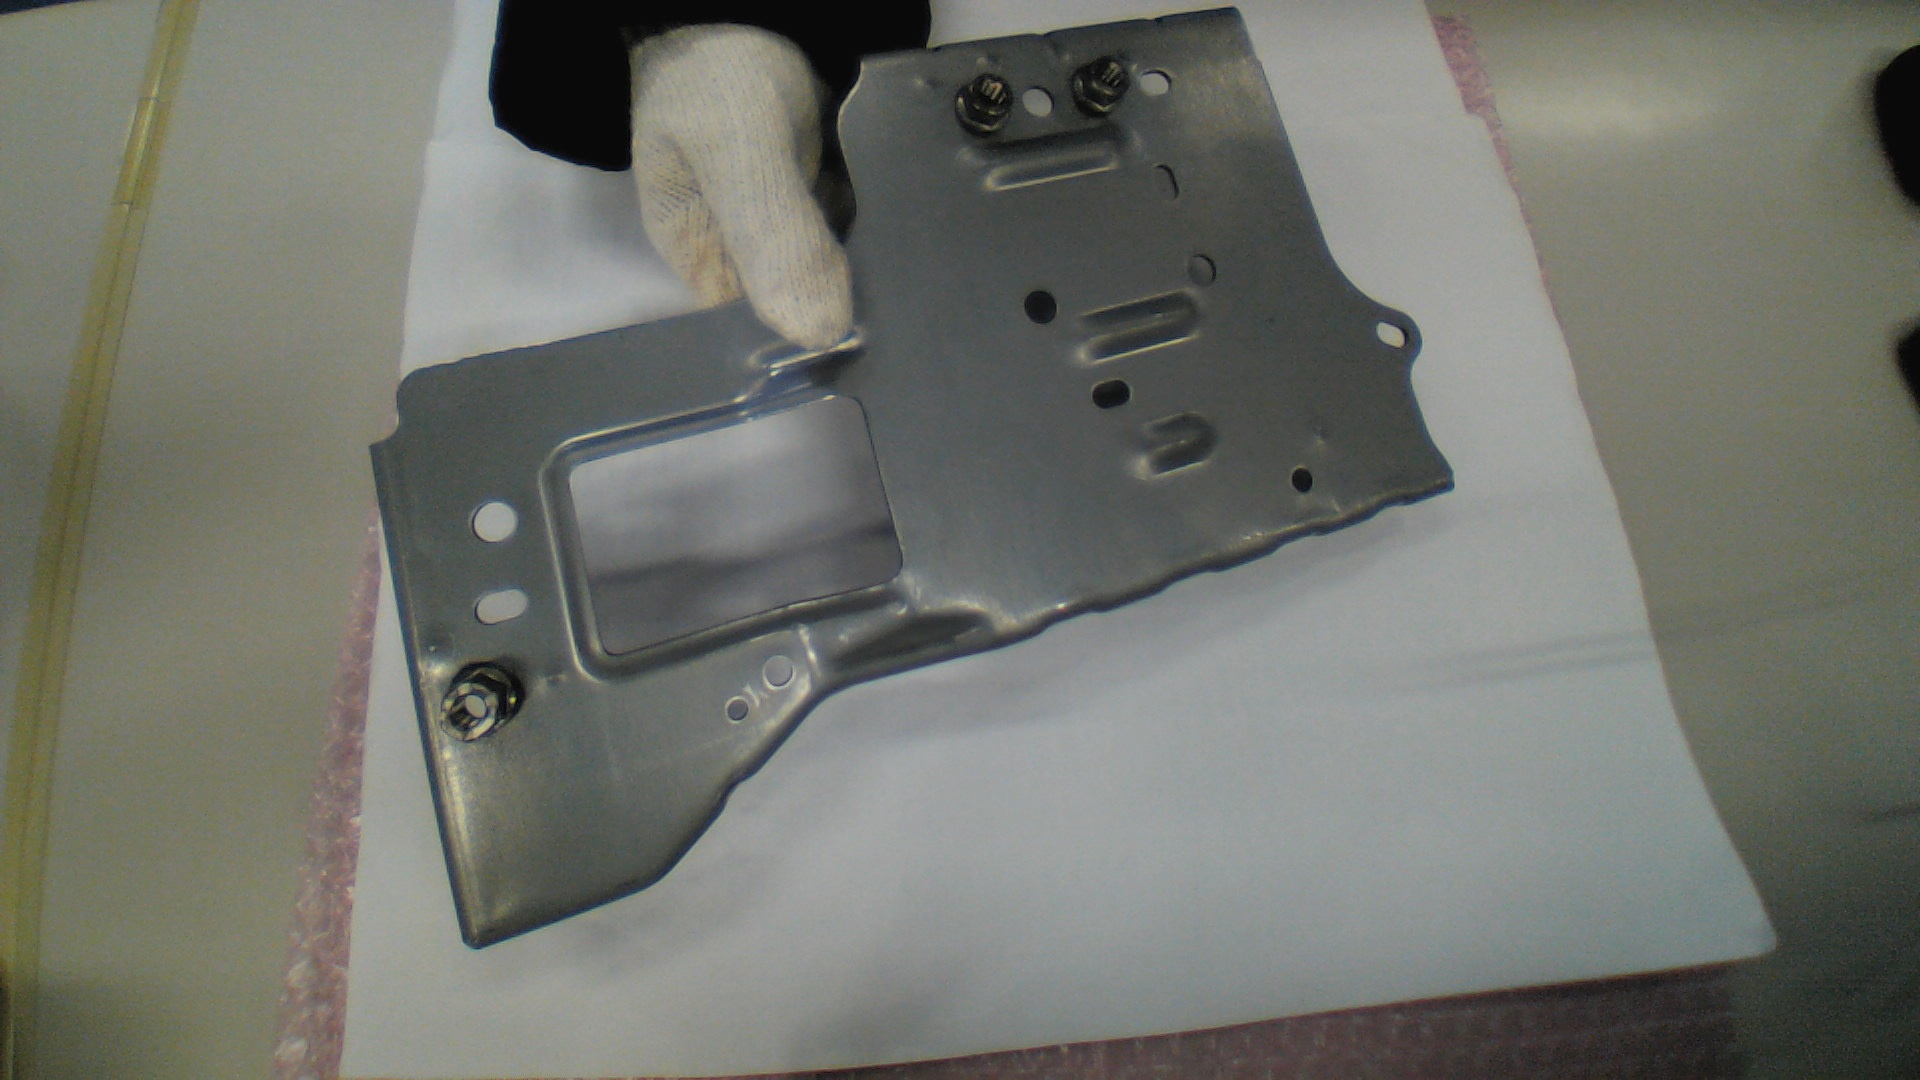dog: (436, 657, 524, 746), (955, 74, 1015, 135), (1073, 55, 1129, 117)
